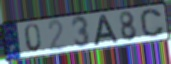0: (23, 23, 43, 54)
2: (47, 19, 66, 53)
3: (71, 14, 91, 51)
8: (118, 10, 139, 42)
A: (93, 14, 120, 47)
C: (139, 8, 166, 39)
